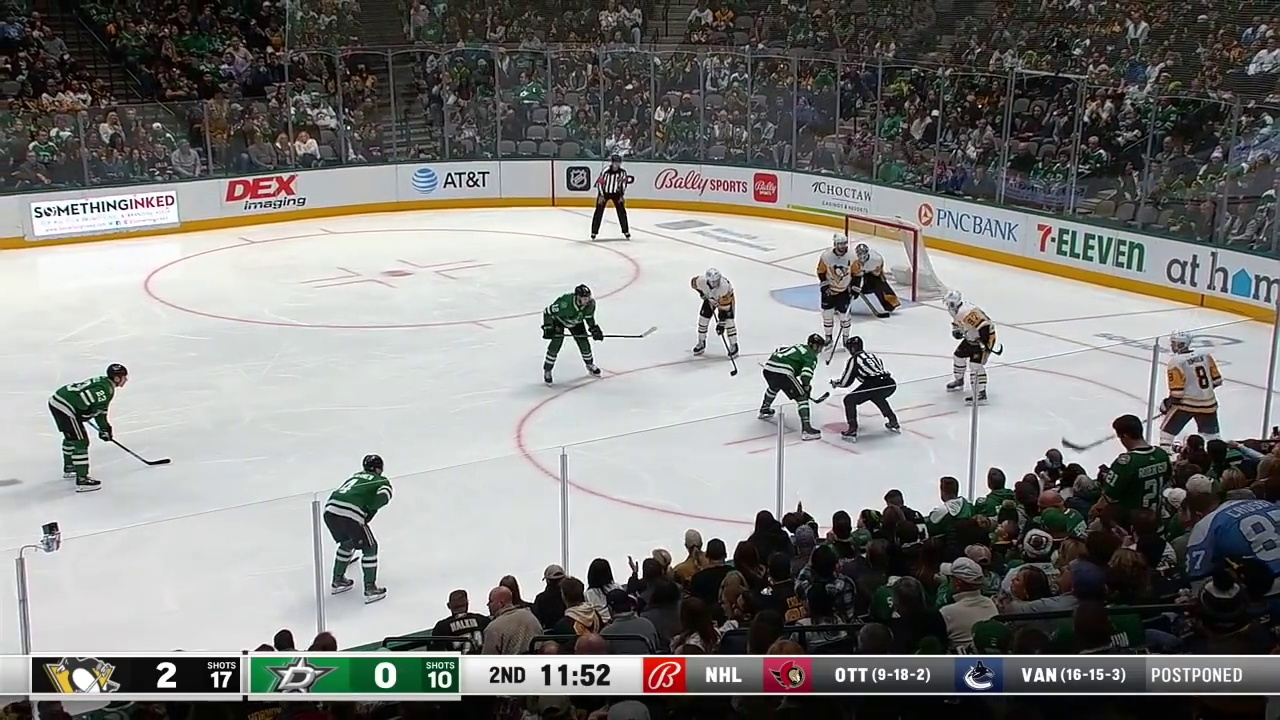goalie: (832, 244, 900, 314)
hockeyplayer: (323, 454, 392, 604), (48, 363, 128, 492), (1159, 329, 1222, 456), (757, 333, 825, 441), (540, 284, 604, 387), (943, 290, 997, 406), (816, 233, 864, 351), (691, 268, 739, 361)
referee: (829, 336, 901, 444), (591, 155, 631, 241)
